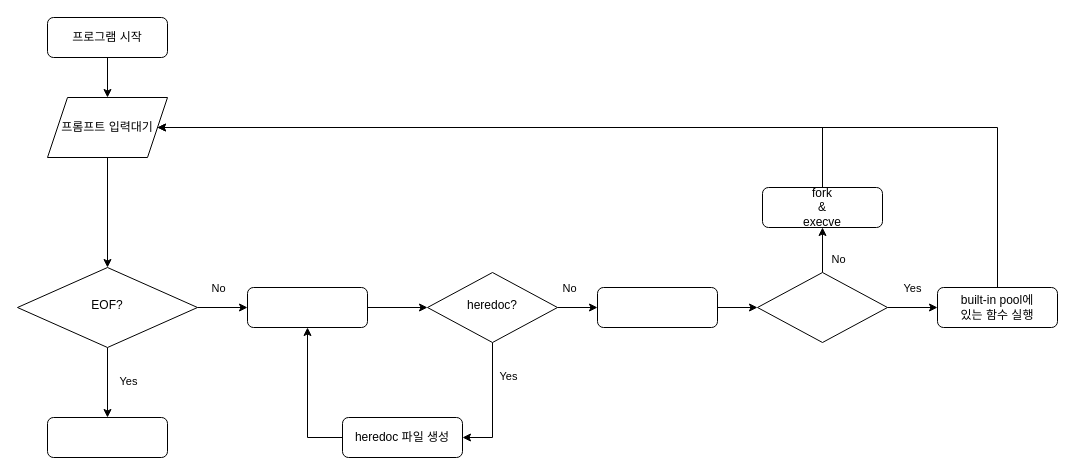
The diagram is 1075 pixels wide and 475 high, and some of its shapes have lost their labels. The centre of each missing label's shape, as x and y in pixels:
"built-in?" goes at (x=822, y=307).
"Excuting" goes at (x=657, y=307).
"Parsing" goes at (x=307, y=307).
"프로그램 종료" goes at (x=107, y=437).
